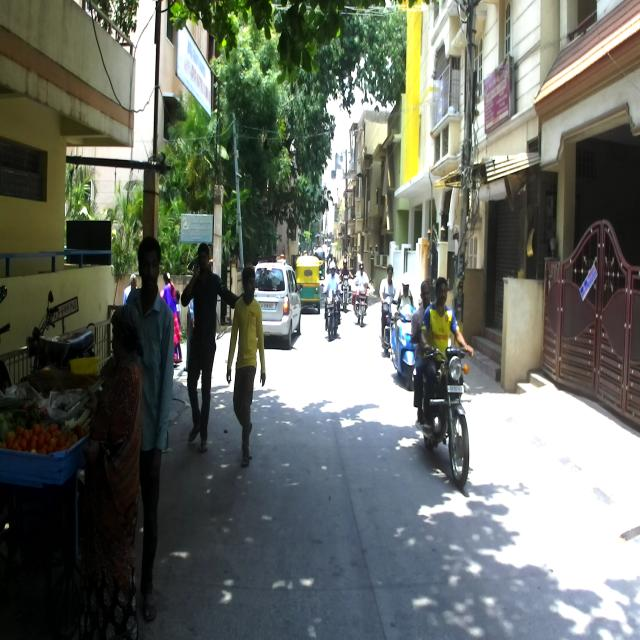motorcycle ahead at: (412, 342, 477, 486)
person ahead at: (90, 231, 174, 627), (180, 242, 224, 456), (230, 265, 268, 468)
